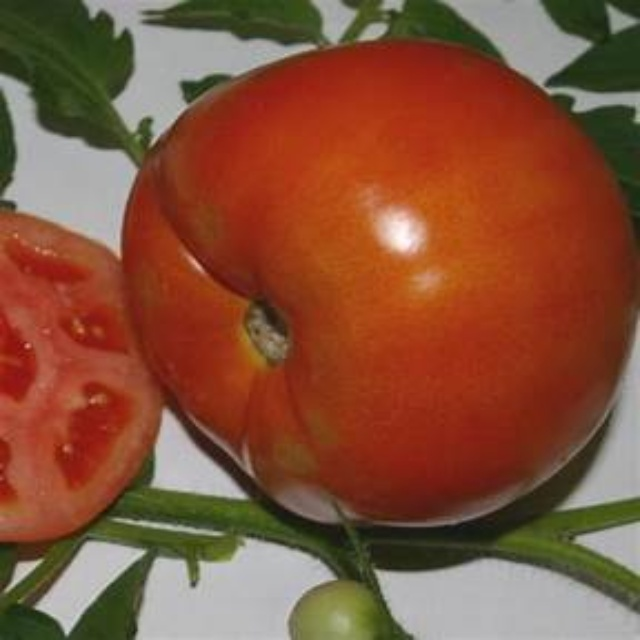tomato: (128, 42, 639, 515)
